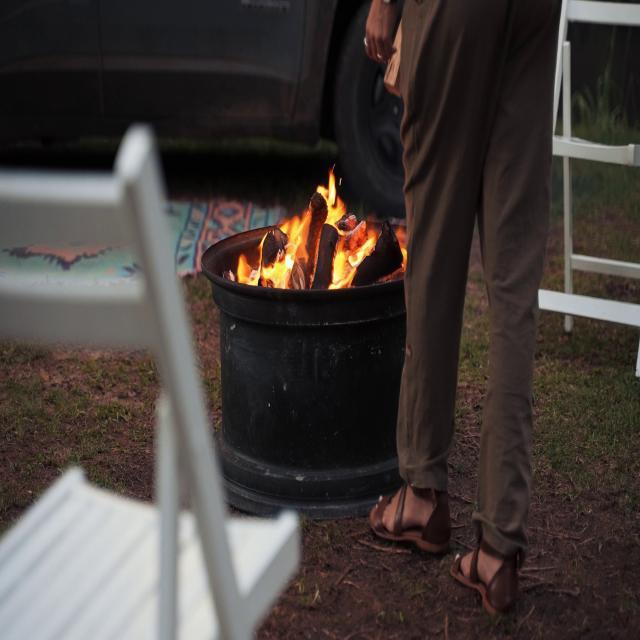Fire: (239, 164, 379, 284)
